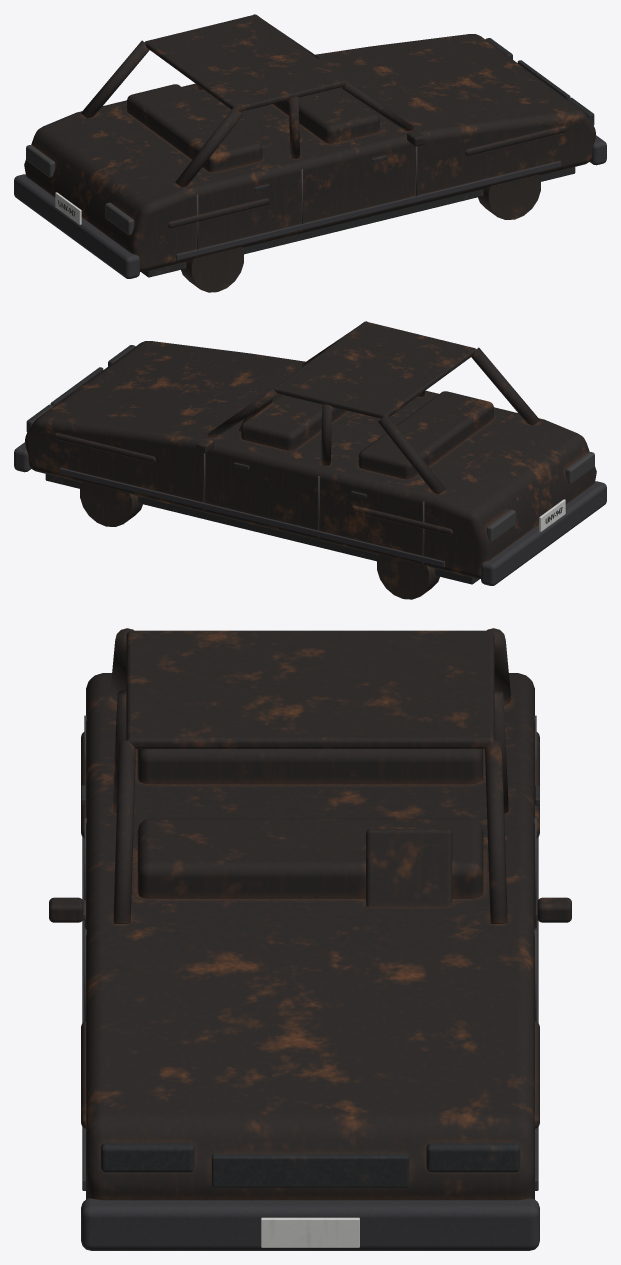
File: auto_quemado.glb
3 renders of one model, top to bottom at view 1: azimuth 30°, elevation 25°; view 2: azimuth 150°, elevation 25°; view 3: azimuth 270°, elevation 25°, orthographic. The views are drawn at different scales.
Parts seen in each view (by area): view 1: auto_quemado; view 2: auto_quemado; view 3: auto_quemado.
Part boxes in pixels (left/top/right/bottom): auto_quemado: left=14, top=14, right=606, bottom=292; auto_quemado: left=14, top=321, right=606, bottom=599; auto_quemado: left=49, top=628, right=571, bottom=1250.
Bounding box in the file's own units: 4.56 × 1.53 × 2.12.
Materials: 1 (1 with a texture image).
